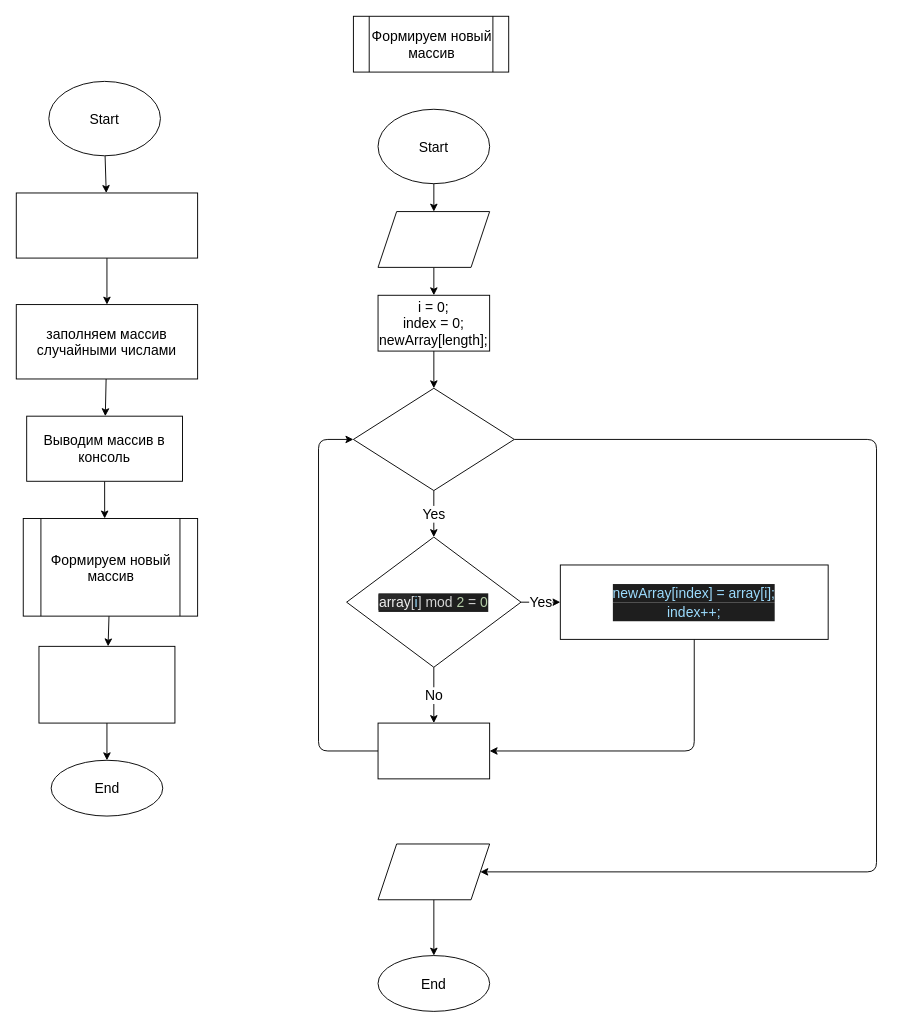
The diagram is 900 pixels wide and 1028 high, and some of its shapes have lost their labels. The centre of each missing label's shape, as x and y in pixels:
"array[length]" belongs at (433,239).
"i < length" belongs at (433,439).
"i++;" belongs at (433,750).
"newArray" belongs at (433,871).
"Выводим новый массив в консоль" belongs at (106,684).
"Создаем массив" belongs at (106,225).
